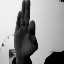f: (12, 1, 39, 58)
